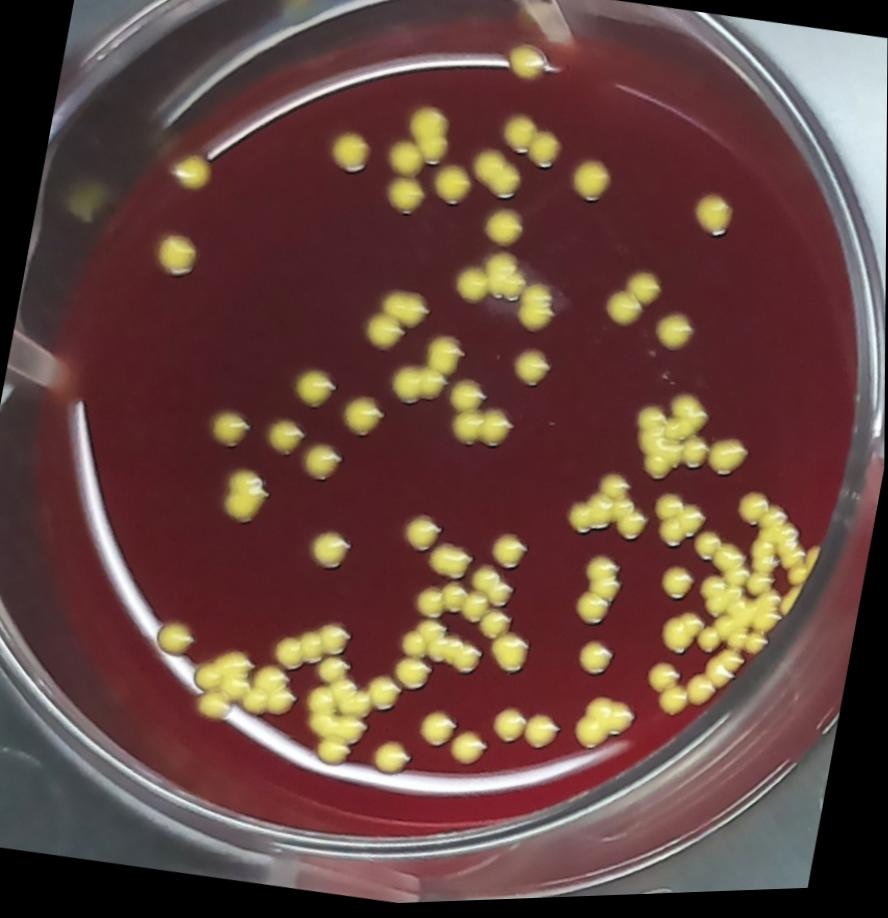mluteus: (625, 391, 717, 496), (295, 676, 379, 778), (561, 465, 657, 553), (271, 611, 357, 685), (186, 643, 259, 730), (396, 617, 488, 683), (570, 551, 630, 637), (568, 694, 642, 762), (646, 492, 713, 560), (413, 577, 493, 633), (214, 464, 276, 536), (238, 661, 304, 725), (447, 403, 520, 460), (466, 147, 529, 209), (510, 281, 567, 345), (403, 105, 457, 171), (149, 227, 205, 288), (686, 191, 741, 251), (479, 250, 532, 311), (742, 537, 787, 608), (334, 393, 390, 449), (205, 401, 259, 459), (286, 363, 343, 417), (467, 562, 521, 617), (647, 311, 700, 364), (305, 526, 357, 580), (162, 150, 217, 201), (485, 632, 536, 687), (476, 204, 529, 256), (325, 129, 377, 181), (505, 346, 556, 399), (703, 436, 754, 487), (378, 287, 431, 336), (260, 414, 310, 465), (298, 440, 347, 492), (567, 158, 615, 211), (361, 310, 411, 359), (381, 135, 430, 185), (398, 511, 446, 562), (600, 287, 648, 337), (452, 262, 499, 313), (425, 542, 477, 588), (415, 706, 462, 756), (659, 611, 704, 663), (444, 375, 491, 423), (429, 164, 475, 213), (152, 616, 200, 662), (447, 728, 493, 776), (367, 739, 416, 784), (693, 577, 737, 627), (488, 530, 532, 579), (702, 652, 748, 698), (520, 712, 565, 759), (494, 112, 539, 159), (573, 640, 619, 685), (384, 178, 429, 223), (524, 130, 566, 178), (364, 675, 408, 719), (654, 566, 697, 611), (730, 492, 775, 535), (623, 270, 666, 315), (642, 657, 684, 703), (489, 706, 530, 752), (392, 657, 436, 698), (312, 735, 356, 775), (681, 676, 721, 718), (676, 438, 715, 480), (477, 608, 518, 647), (710, 544, 749, 584), (656, 686, 692, 726), (693, 626, 728, 662), (692, 534, 724, 571)
